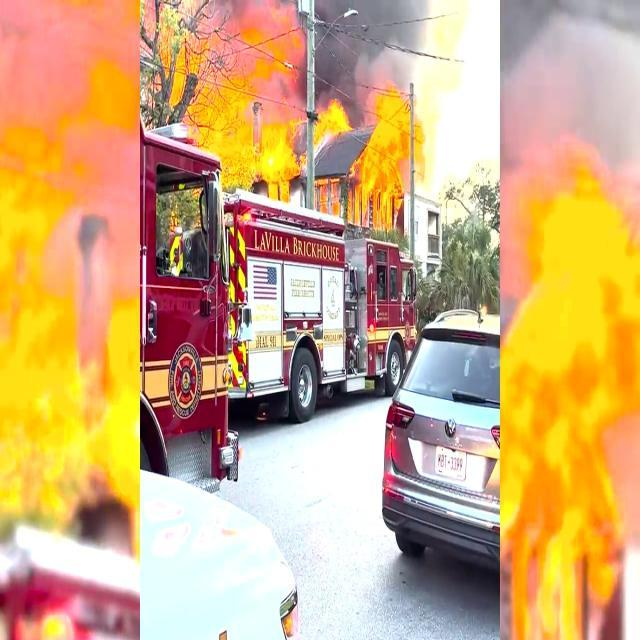Fire: (317, 89, 420, 215), (202, 79, 290, 195)
Smoke: (281, 3, 449, 80)
